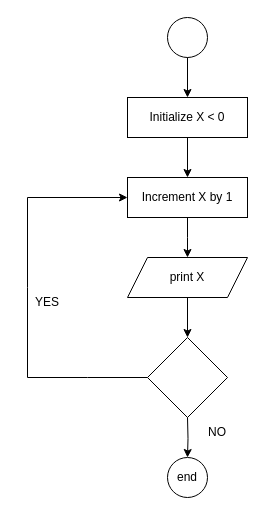
Some shapes in this 265 by 515 pixel diagram are drawn without their labels. The shapes that lost their labels are listed below. From the top down, each one's box as (x1, y1, x2, y2) in pixels, then its label:
(166, 16, 208, 58): Start
(146, 336, 228, 418): X < 20?
